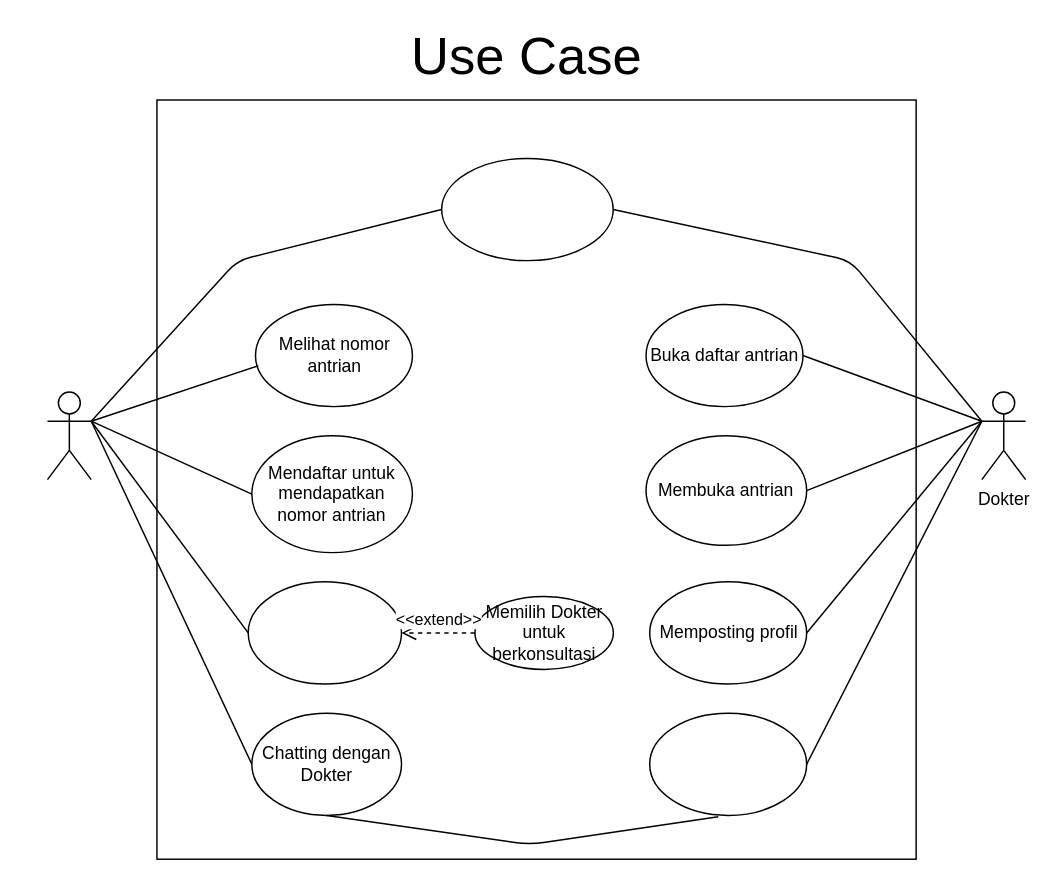
The diagram is 1054 pixels wide and 885 high, and some of its shapes have lost their labels. The box of each missing label's shape, as (x1, y1, x2, y2) in pixels:
Chatting dengan Pasien: (648, 712, 807, 815)
Login akun IPB: (440, 157, 613, 261)
Mahasiswa: (46, 391, 91, 480)
Melihat profil dokter: (247, 580, 402, 684)
